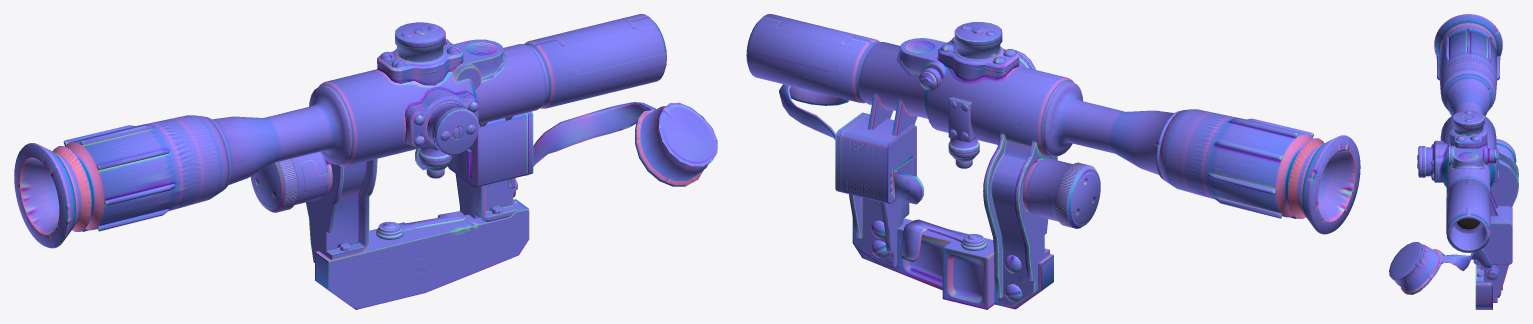
Rendered from PSO.fbx.
3 renders of one model, left to right at view 1: azimuth 30°, elevation 25°; view 2: azimuth 150°, elevation 25°; view 3: azimuth 270°, elevation 25°, orthographic. The views are drawn at different scales.
Visible parts, largest first — view 1: pso-1; view 2: pso-1; view 3: pso-1, Lens.
Boxes of the visible parts, x1=… form: pso-1: x1=14, y1=14, x2=717, y2=309; pso-1: x1=746, y1=14, x2=1360, y2=309; pso-1: x1=1389, y1=14, x2=1518, y2=309; Lens: x1=1456, y1=218, x2=1480, y2=229.
Size of the model in its own units: 17.06 by 7 by 4.81.
